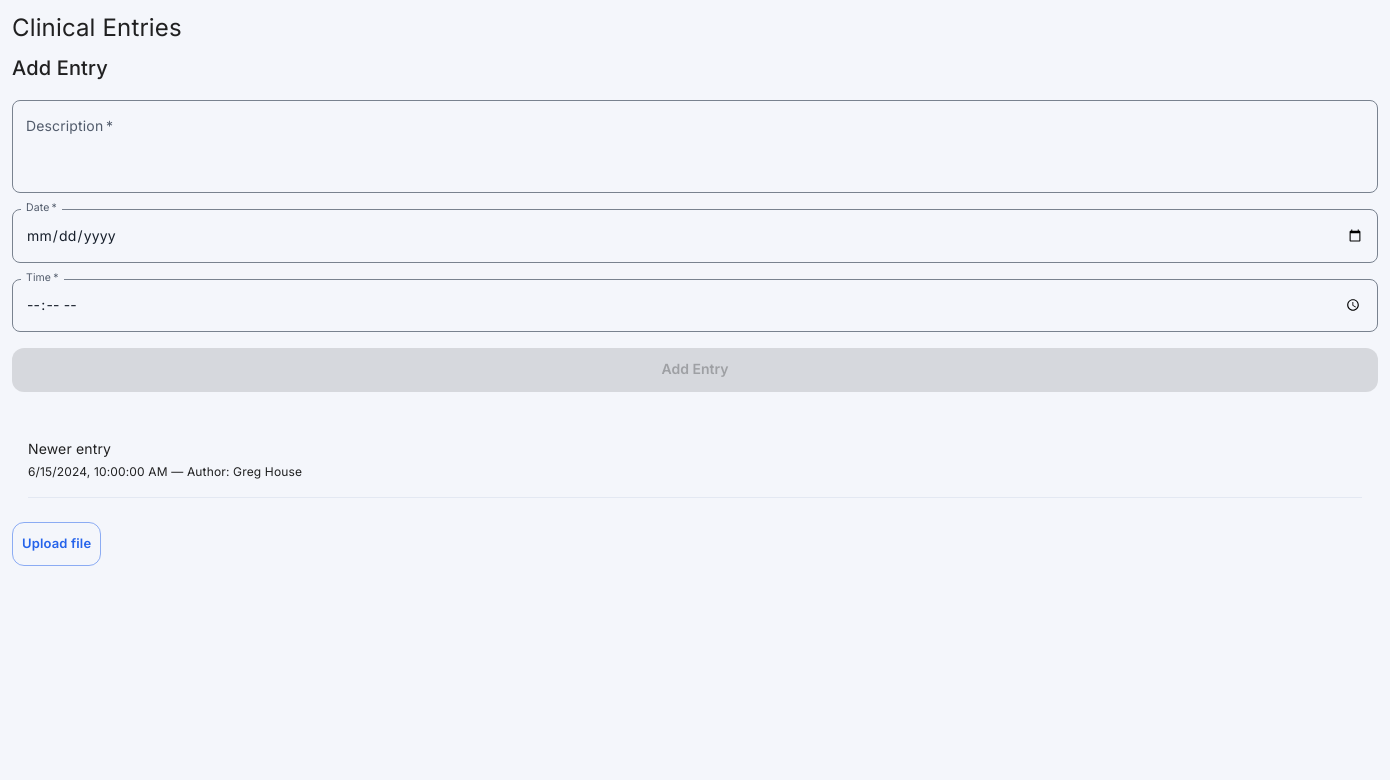
Scenario: ClinicalEntriesPage › SR-012 AC-1: create form submit POSTs to /patients/{id}/clinical-entries and list refetches
Expected: the text "Newer entry" is shown, [28,440,111,457]
Type "Created entry" into the text box labelled "Description *" at (695, 147), box [26,117,1364,177]
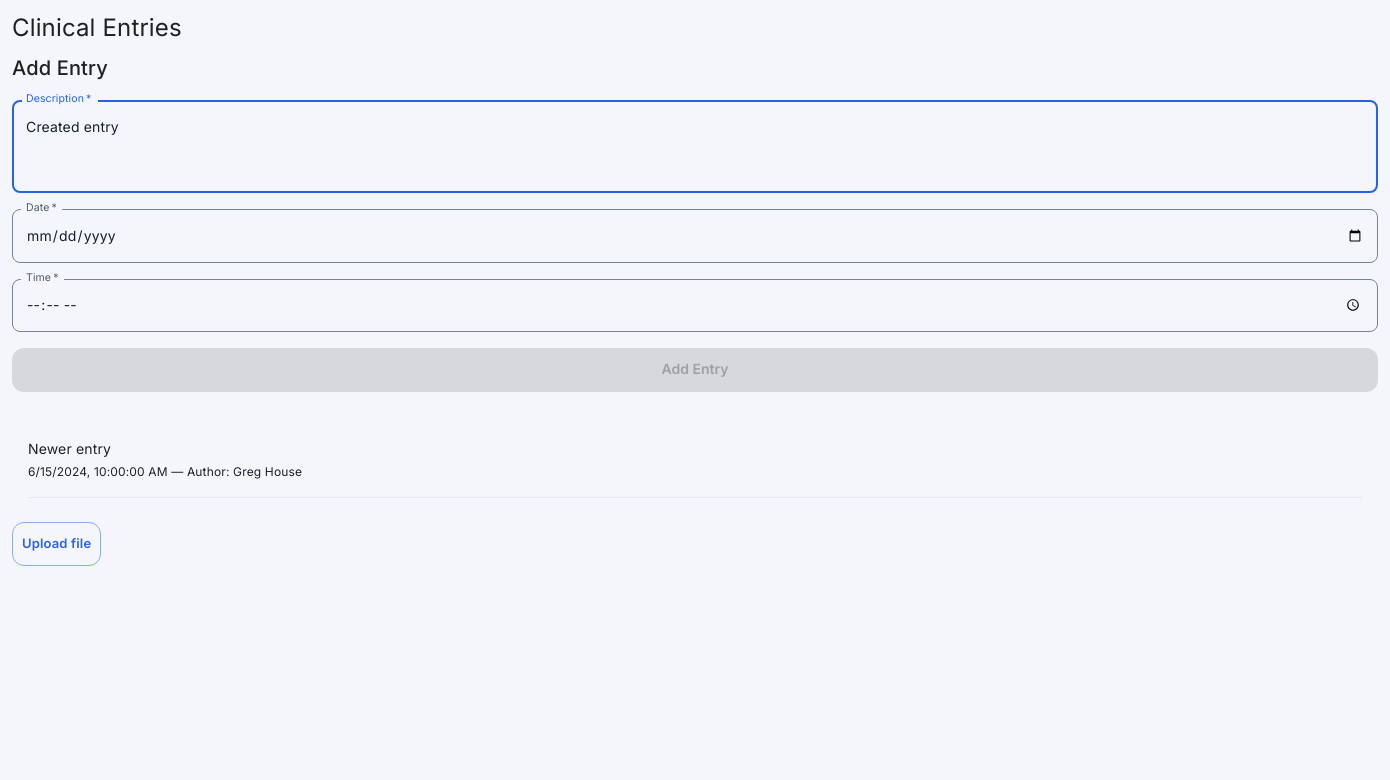
Type "2024-07-01" into the date field labelled "Date *" at (695, 236), box [12,209,1378,262]
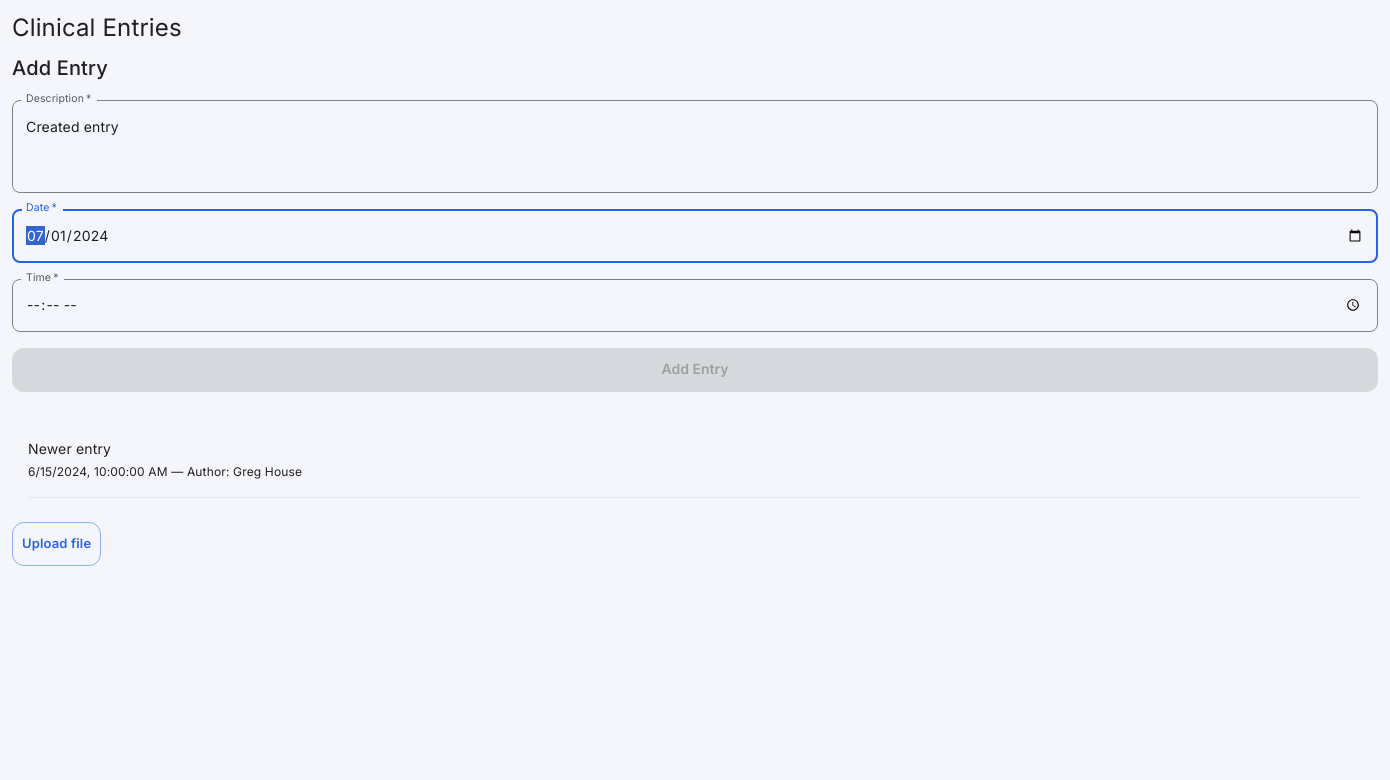
Type "09:00" into the time field labelled "Time *" at (695, 305), box [12,278,1378,332]
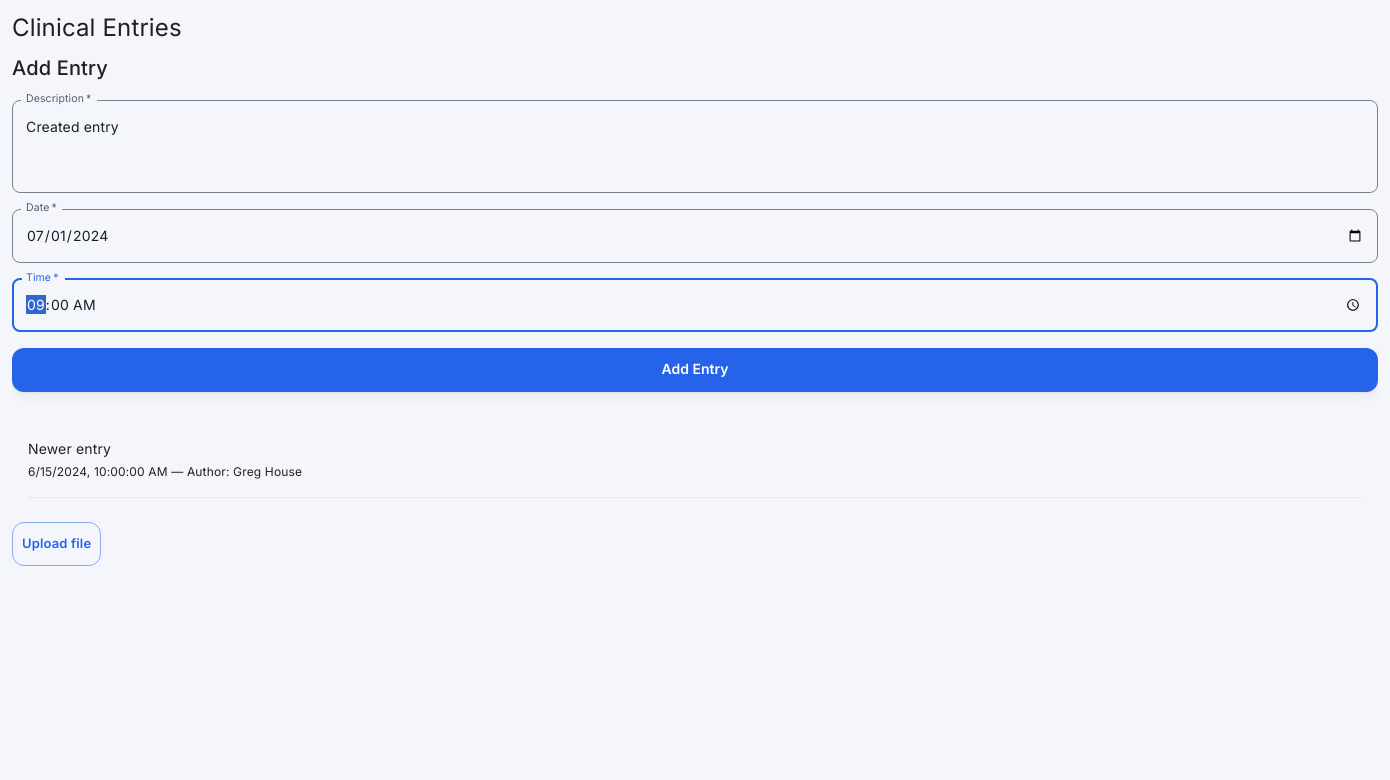
Click the button "Add Entry" at (695, 370), box [12,348,1378,392]
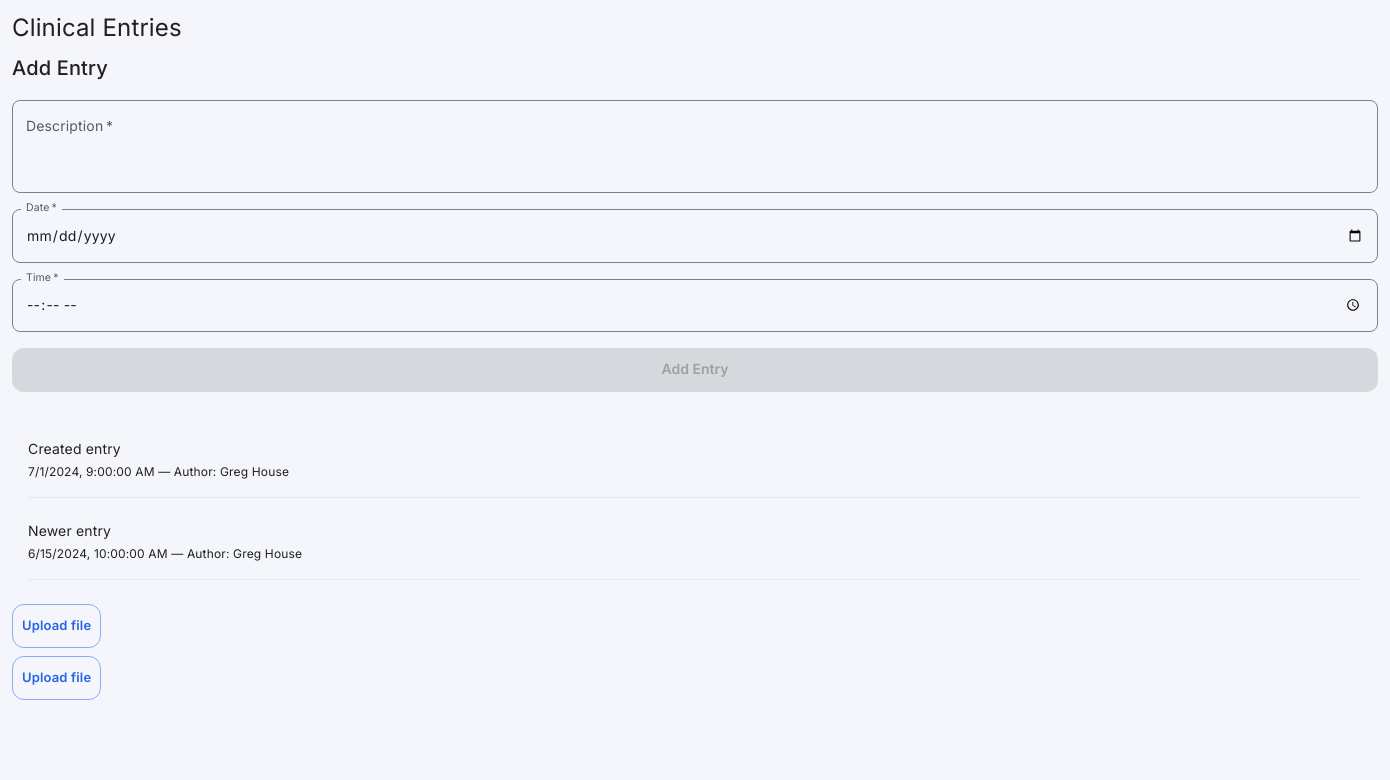
Now the text "Created entry" is shown, box [28,440,121,457]
